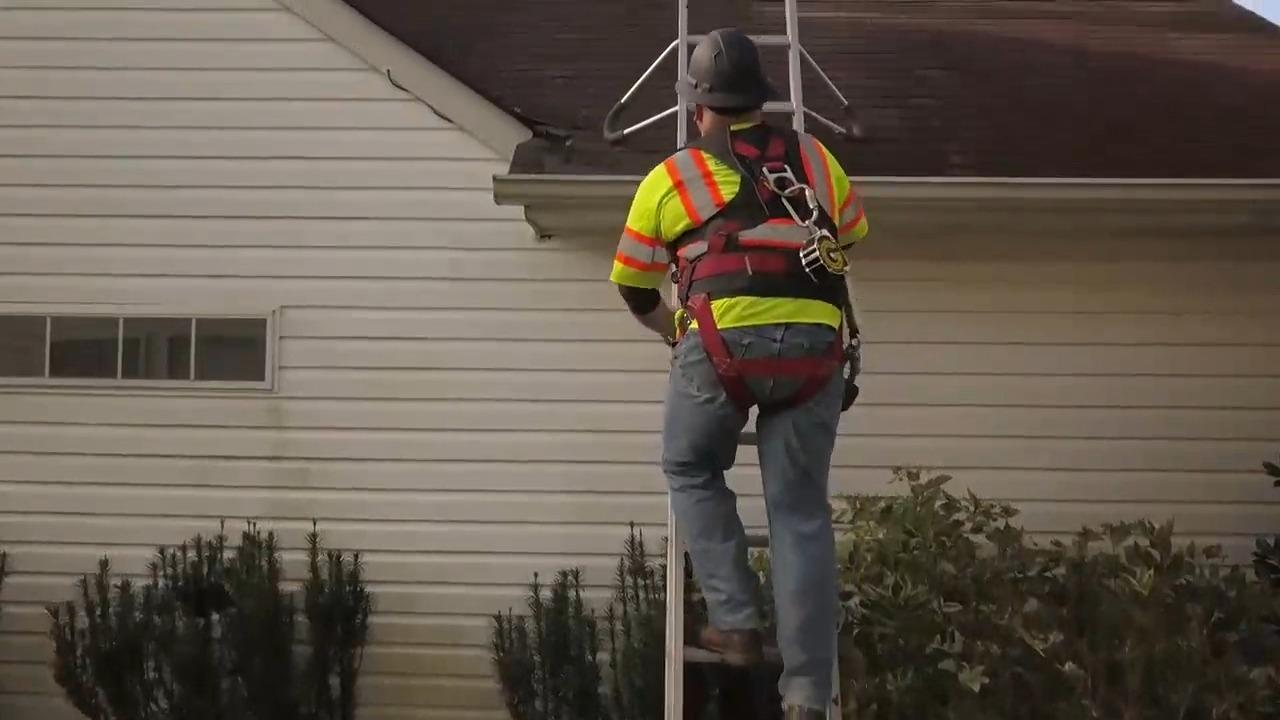Helmet: (669, 33, 790, 107)
Person: (608, 26, 869, 719)
Safety Boot: (701, 626, 767, 671)
Safety Vest: (676, 154, 846, 364)
